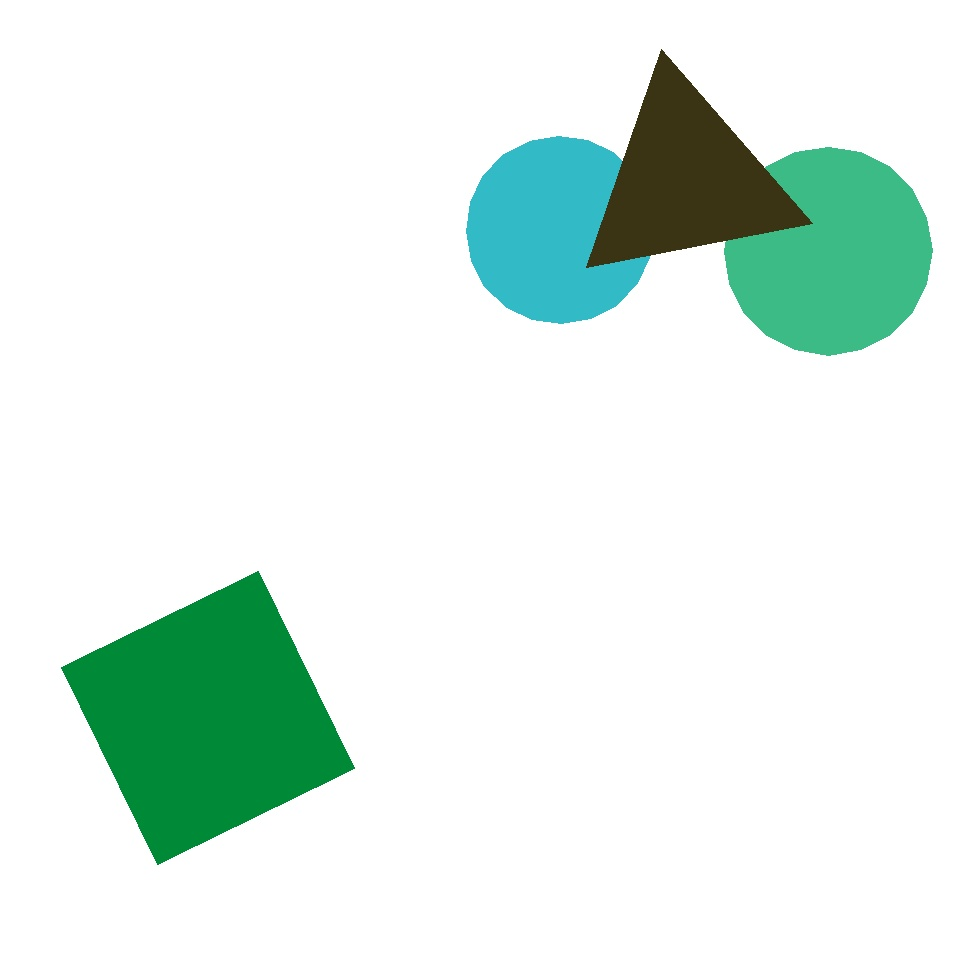circle: (574, 71, 800, 289)
square: (508, 251, 839, 582), (61, 572, 354, 864), (478, 724, 632, 876)
triangle: (724, 147, 932, 355), (466, 137, 654, 324), (472, 496, 646, 670), (608, 83, 738, 214)
